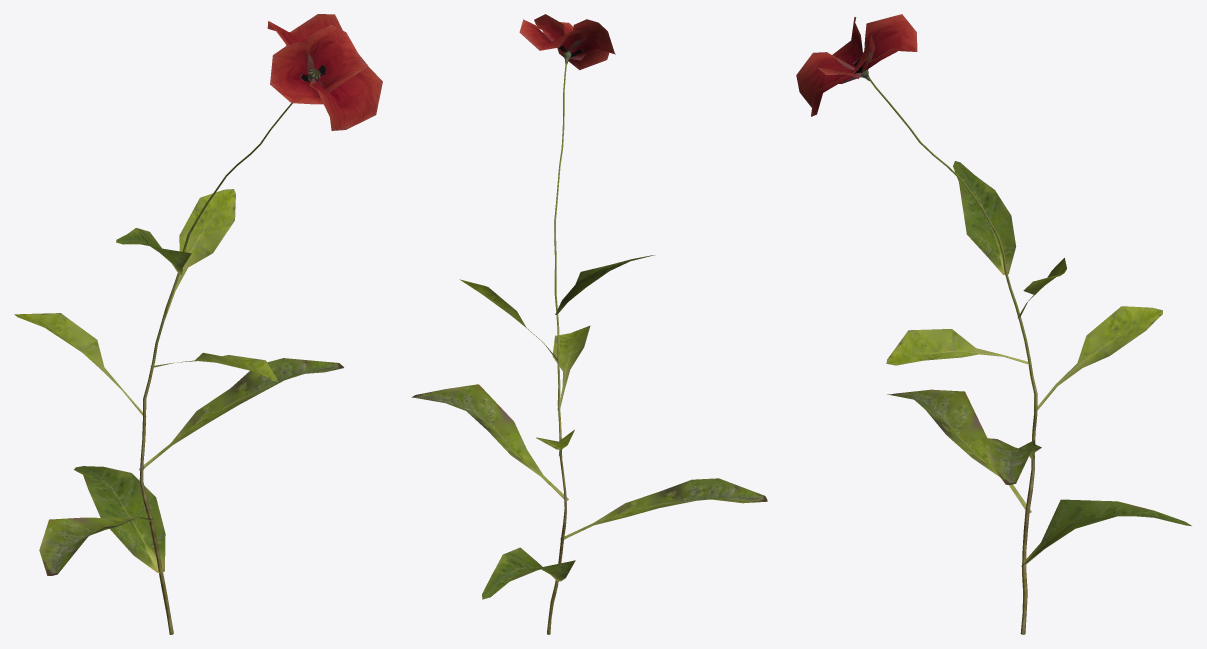
File: Poppy_OG_normal_red.glb
The picture shows the model from 3 angles, left to right: view 1: azimuth 30°, elevation 25°; view 2: azimuth 150°, elevation 25°; view 3: azimuth 270°, elevation 25°; orthographic projection. The views are drawn at different scales.
Visible parts, largest first — view 1: xtall; view 2: xtall; view 3: xtall.
Part boxes in pixels (box(x1,y1,x2,y2)): xtall: box(14, 14, 382, 634); xtall: box(411, 14, 767, 634); xtall: box(796, 14, 1191, 634).
Bounding box in the file's own units: 1.75 × 3.06 × 1.73.
1 material, 1 textured.
